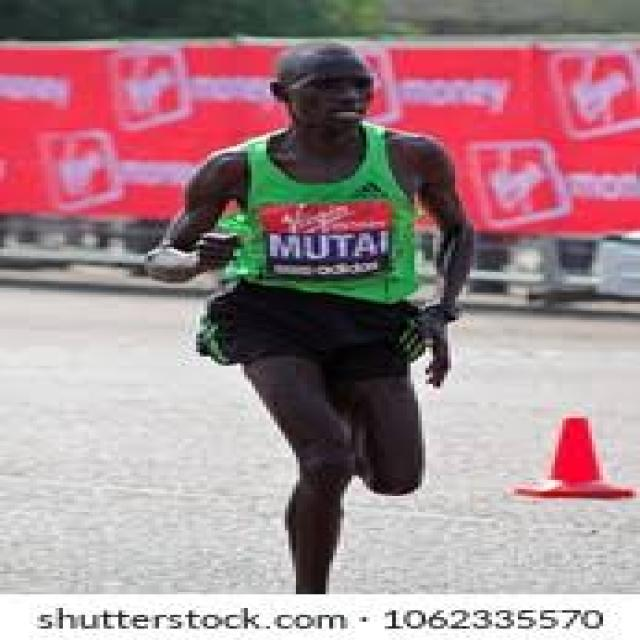running: (140, 38, 478, 594)
